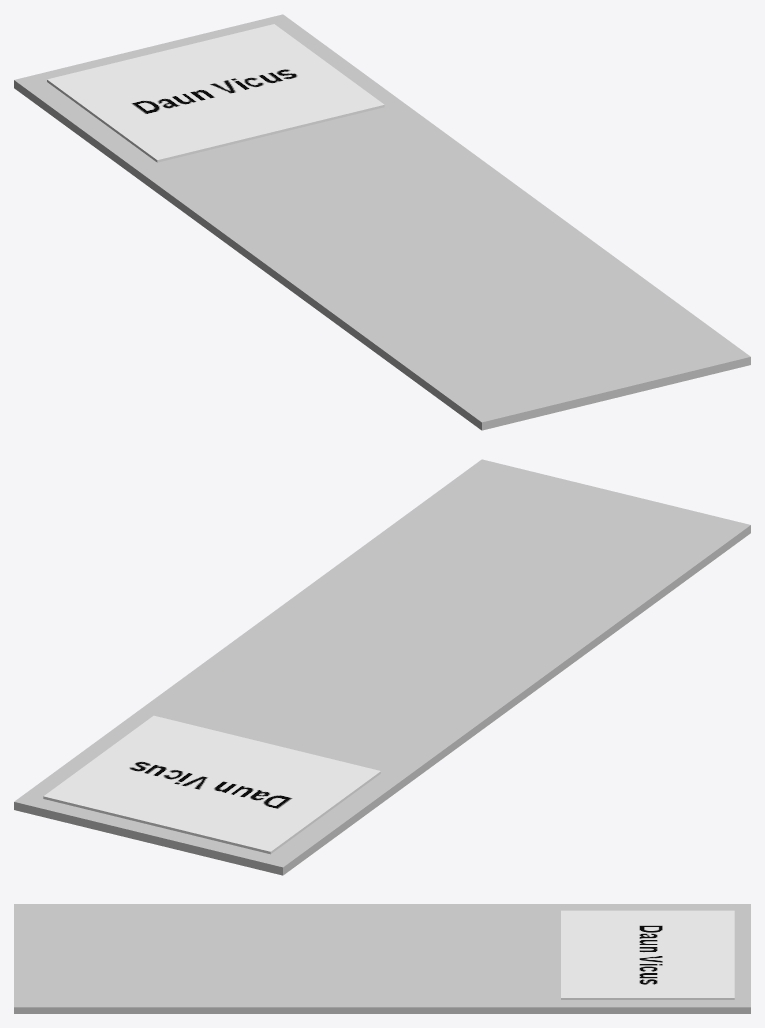
File: Preparat.fbx
3 views of the same model, one above another, from view 1: azimuth 30°, elevation 25°; view 2: azimuth 150°, elevation 25°; view 3: azimuth 270°, elevation 25° (orthographic). The views are drawn at different scales.
Visible parts, largest first — view 1: Cube.035, Cube.036; view 2: Cube.035, Cube.036; view 3: Cube.035, Cube.036.
Boxes of the visible parts, bbox=[...] form: Cube.035: bbox=[14, 14, 750, 430]; Cube.036: bbox=[47, 24, 384, 162]; Cube.035: bbox=[14, 459, 750, 875]; Cube.036: bbox=[43, 715, 380, 854]; Cube.035: bbox=[14, 904, 750, 1013]; Cube.036: bbox=[561, 910, 734, 999].
Bounding box in the file's own units: 3.91 × 0.1491 × 11.76.
2 materials, 1 textured.
